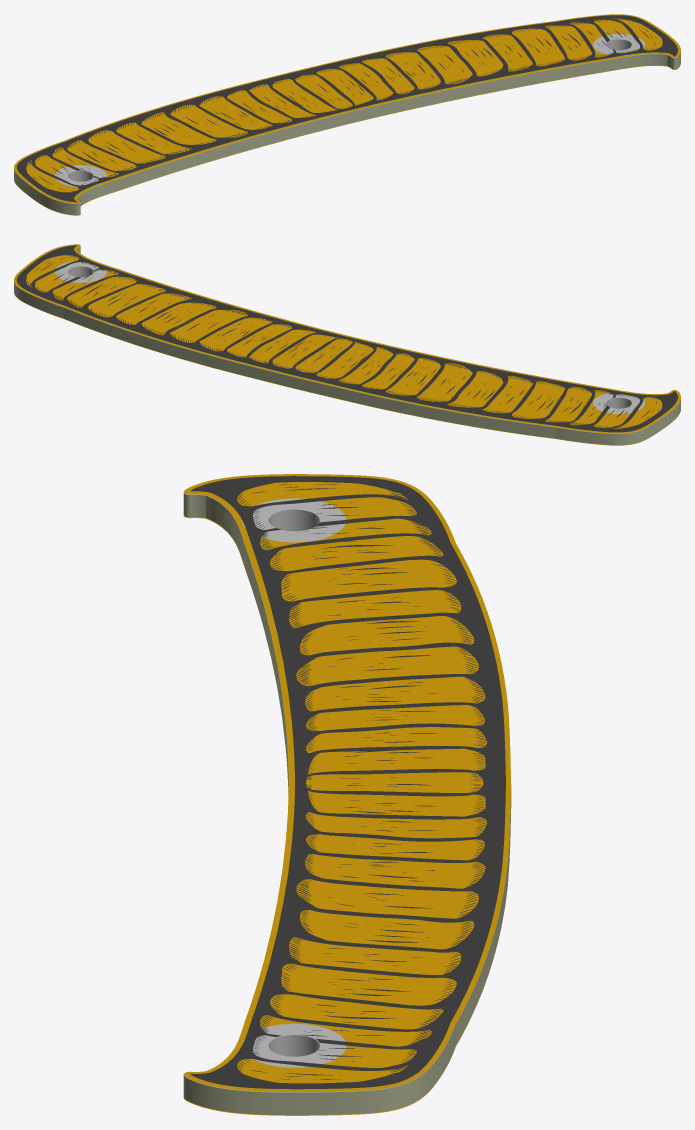
File: headband-2024-headband-2024-staffing.glb
3 renders of one model, top to bottom at view 1: azimuth 30°, elevation 25°; view 2: azimuth 150°, elevation 25°; view 3: azimuth 270°, elevation 25°, orthographic. The views are drawn at different scales.
Visible parts, largest first — view 1: =>[0:1:1:6], =>[0:1:1:4], =>[0:1:1:8], =>[0:1:1:2]; view 2: =>[0:1:1:6], =>[0:1:1:4], =>[0:1:1:8], =>[0:1:1:2]; view 3: =>[0:1:1:6], =>[0:1:1:4], =>[0:1:1:8], =>[0:1:1:2].
Part boxes in pixels (x1,y1,x2,y2): =>[0:1:1:6]: (14,14,680,215); =>[0:1:1:4]: (16,15,677,202); =>[0:1:1:8]: (14,34,680,215); =>[0:1:1:2]: (55,34,645,186); =>[0:1:1:6]: (14,244,680,445); =>[0:1:1:4]: (16,245,677,432); =>[0:1:1:8]: (14,246,680,445); =>[0:1:1:2]: (54,261,645,414); =>[0:1:1:6]: (183,474,511,1115); =>[0:1:1:4]: (190,476,505,1089); =>[0:1:1:8]: (183,492,511,1114); =>[0:1:1:2]: (242,498,346,1067).
Bounding box in the file's own units: 0.0894 × 0.00166 × 0.02.
4 materials, 4 textured.
